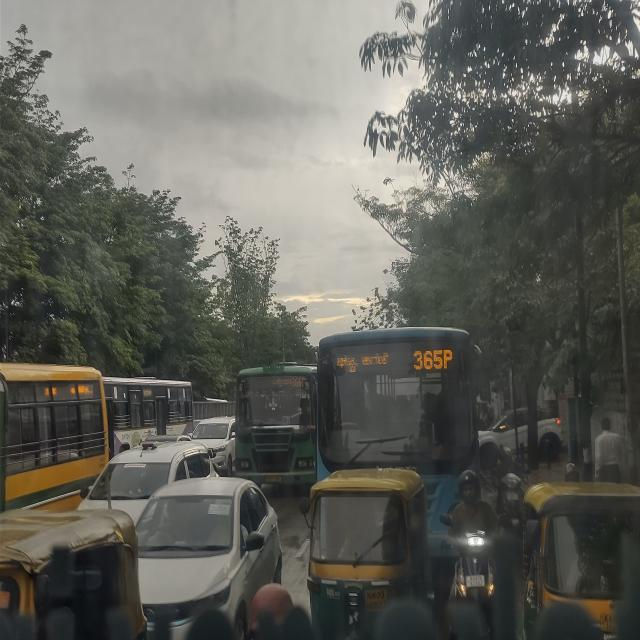bus: (315, 330, 491, 516), (236, 363, 320, 503), (110, 374, 193, 455)
display: (331, 344, 464, 374), (245, 372, 309, 395)
dnumber: (411, 346, 455, 375), (290, 374, 304, 392)
